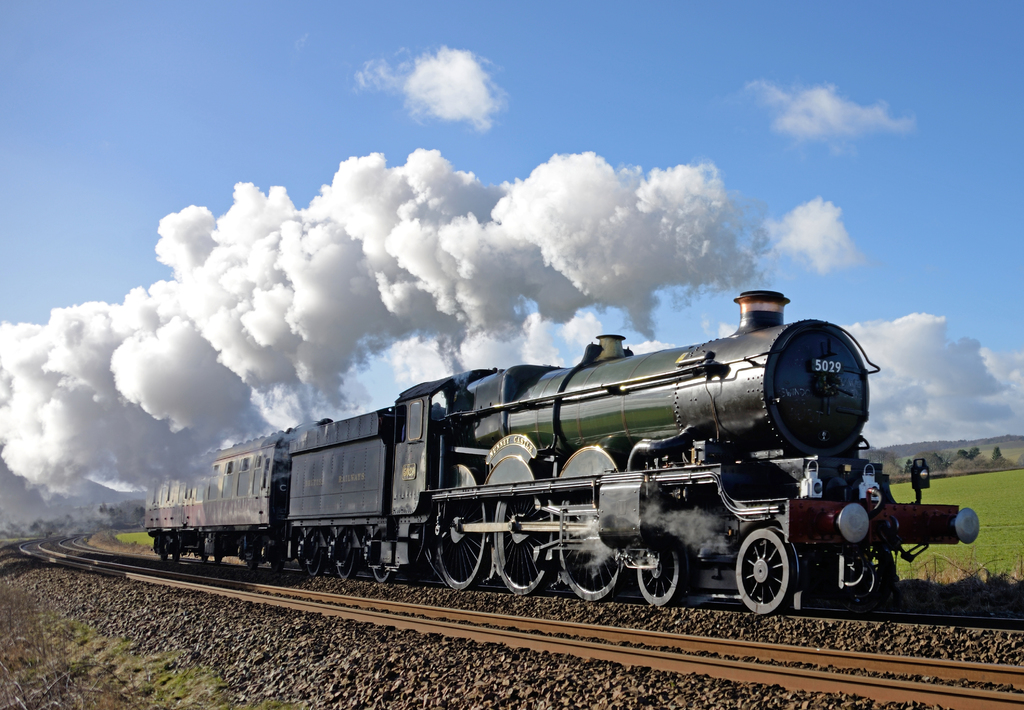train: (140, 281, 978, 615)
